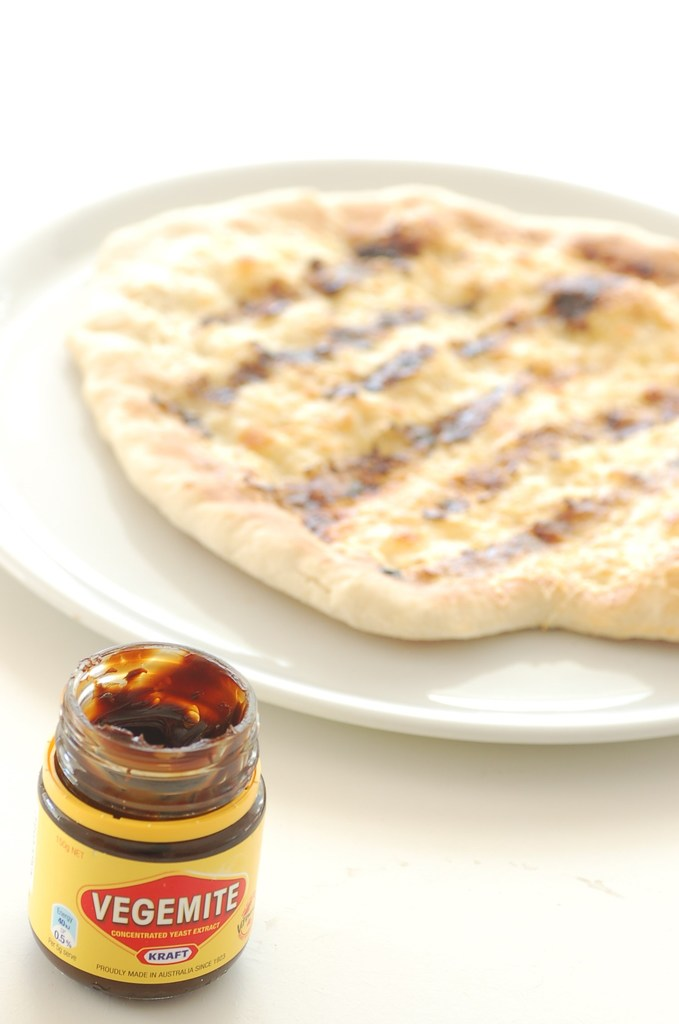Pizza: (60, 170, 678, 652)
